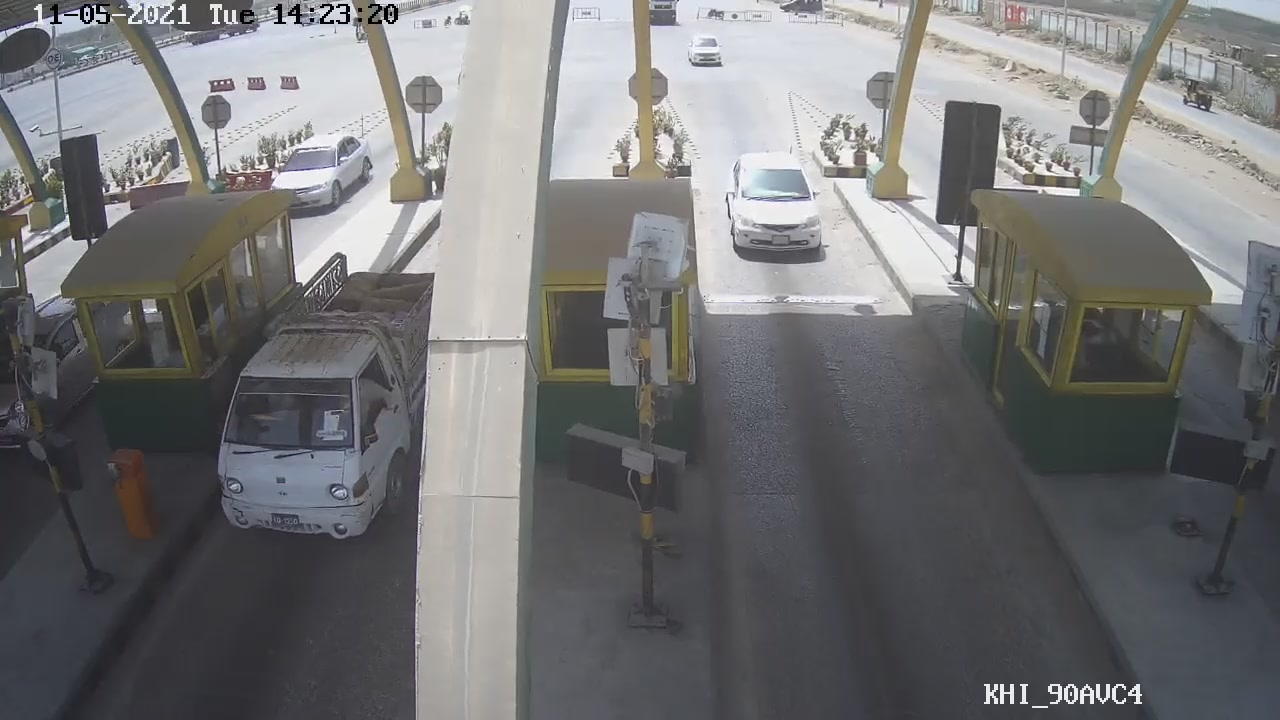F1: (725, 148, 824, 258)
